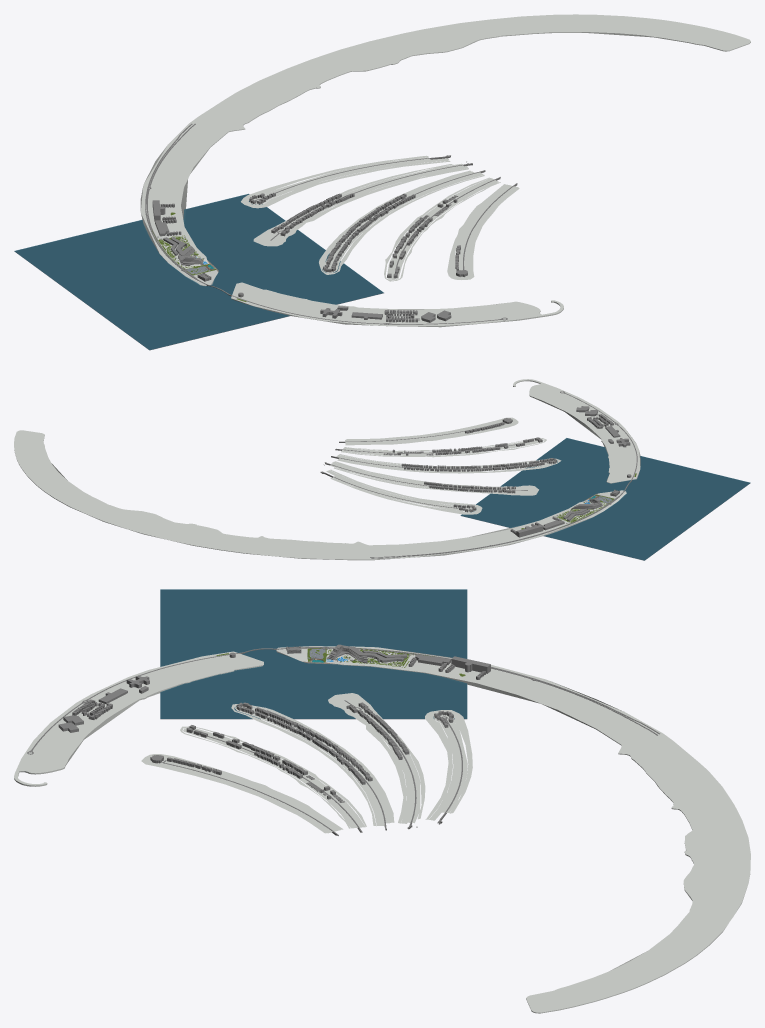
The model's file is SLS_Ground_mobile.glb.
The picture shows the model from 3 angles, top to bottom: view 1: azimuth 30°, elevation 25°; view 2: azimuth 150°, elevation 25°; view 3: azimuth 270°, elevation 25°; orthographic projection. The views are drawn at different scales.
Parts seen in each view (by area): view 1: build, ocean, road; view 2: build, ocean, road; view 3: build, ocean, road.
Part boxes in pixels (<box>): build: <box>14,14,750,350</box>; ocean: <box>14,194,383,349</box>; road: <box>145,123,517,324</box>; build: <box>14,379,750,560</box>; ocean: <box>461,438,750,560</box>; road: <box>320,391,637,558</box>; build: <box>14,590,750,1013</box>; ocean: <box>160,589,467,718</box>; road: <box>27,646,659,835</box>.
Size of the model in its own units: 6540 by 63.24 by 4804.
Materials: 10 (9 with a texture image).
